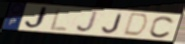C: (149, 15, 176, 39)
D: (121, 12, 151, 38)
J: (23, 6, 51, 30), (75, 10, 100, 33), (101, 13, 124, 34)
L: (48, 7, 69, 32)
